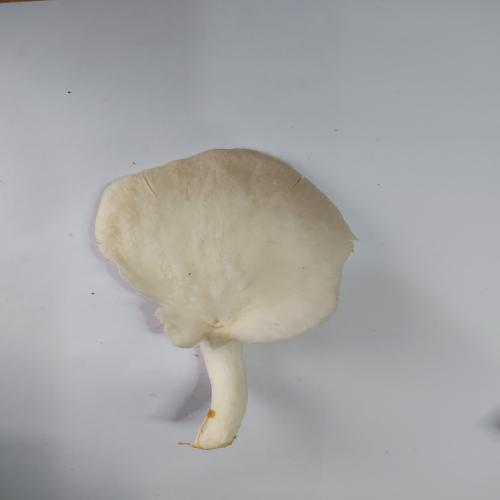Oyster Mushroom: (92, 147, 359, 451)
